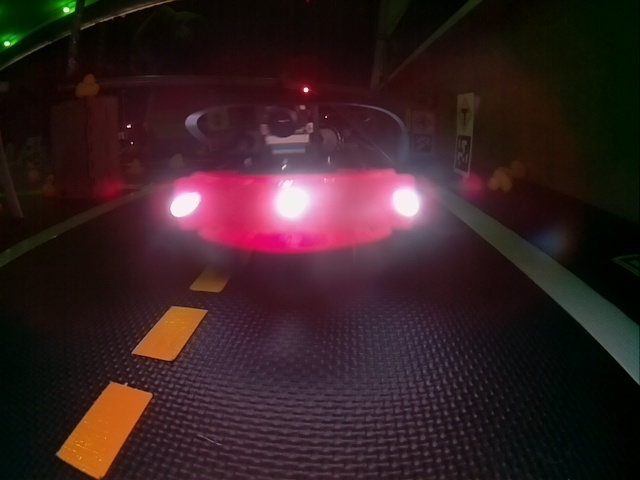Duckie: (489, 170, 511, 189), (504, 161, 526, 178)
Duckiebot: (169, 108, 423, 251)
Intersection sign: (456, 97, 473, 130)
QR code: (454, 135, 471, 174), (411, 132, 434, 155)
